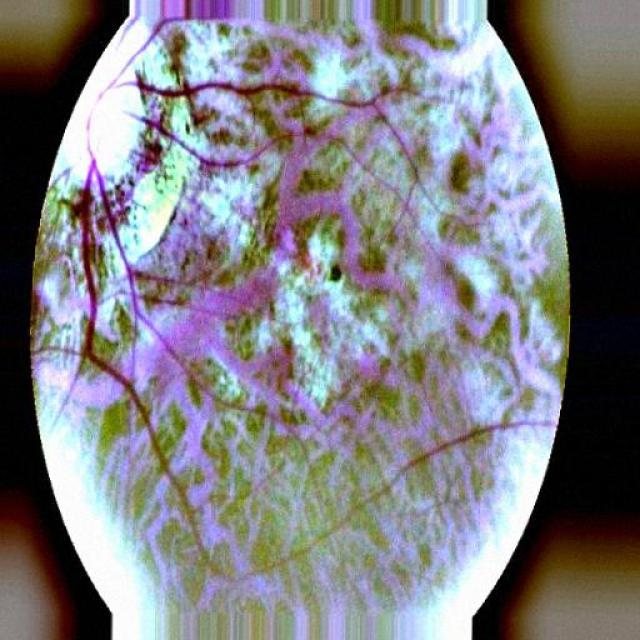Nerves: (32, 16, 399, 506)
